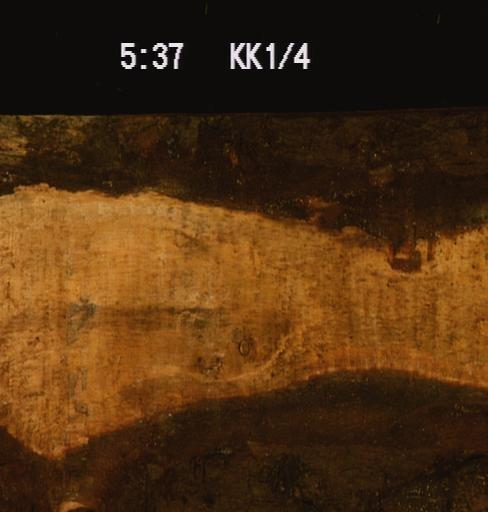dry_knot: (236, 336, 250, 357)
wave: (0, 103, 487, 272), (0, 366, 487, 511)
